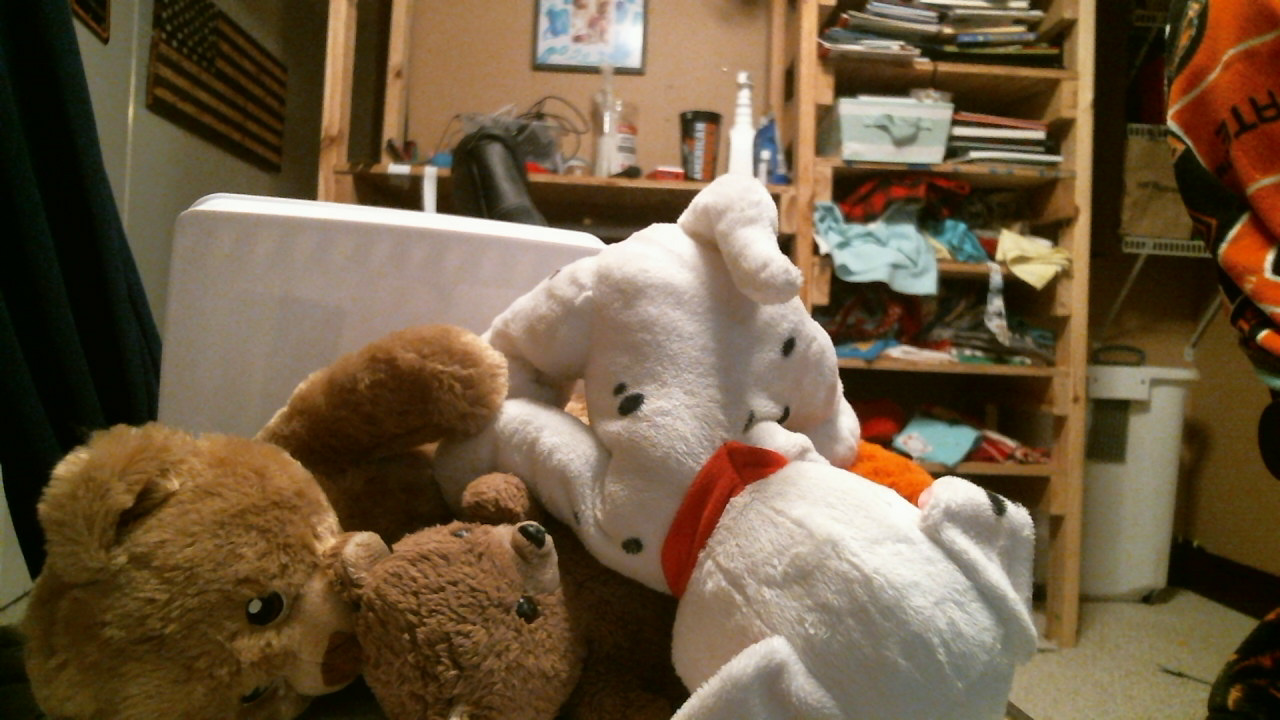Little_Mister_Bear: (442, 521, 561, 634)
